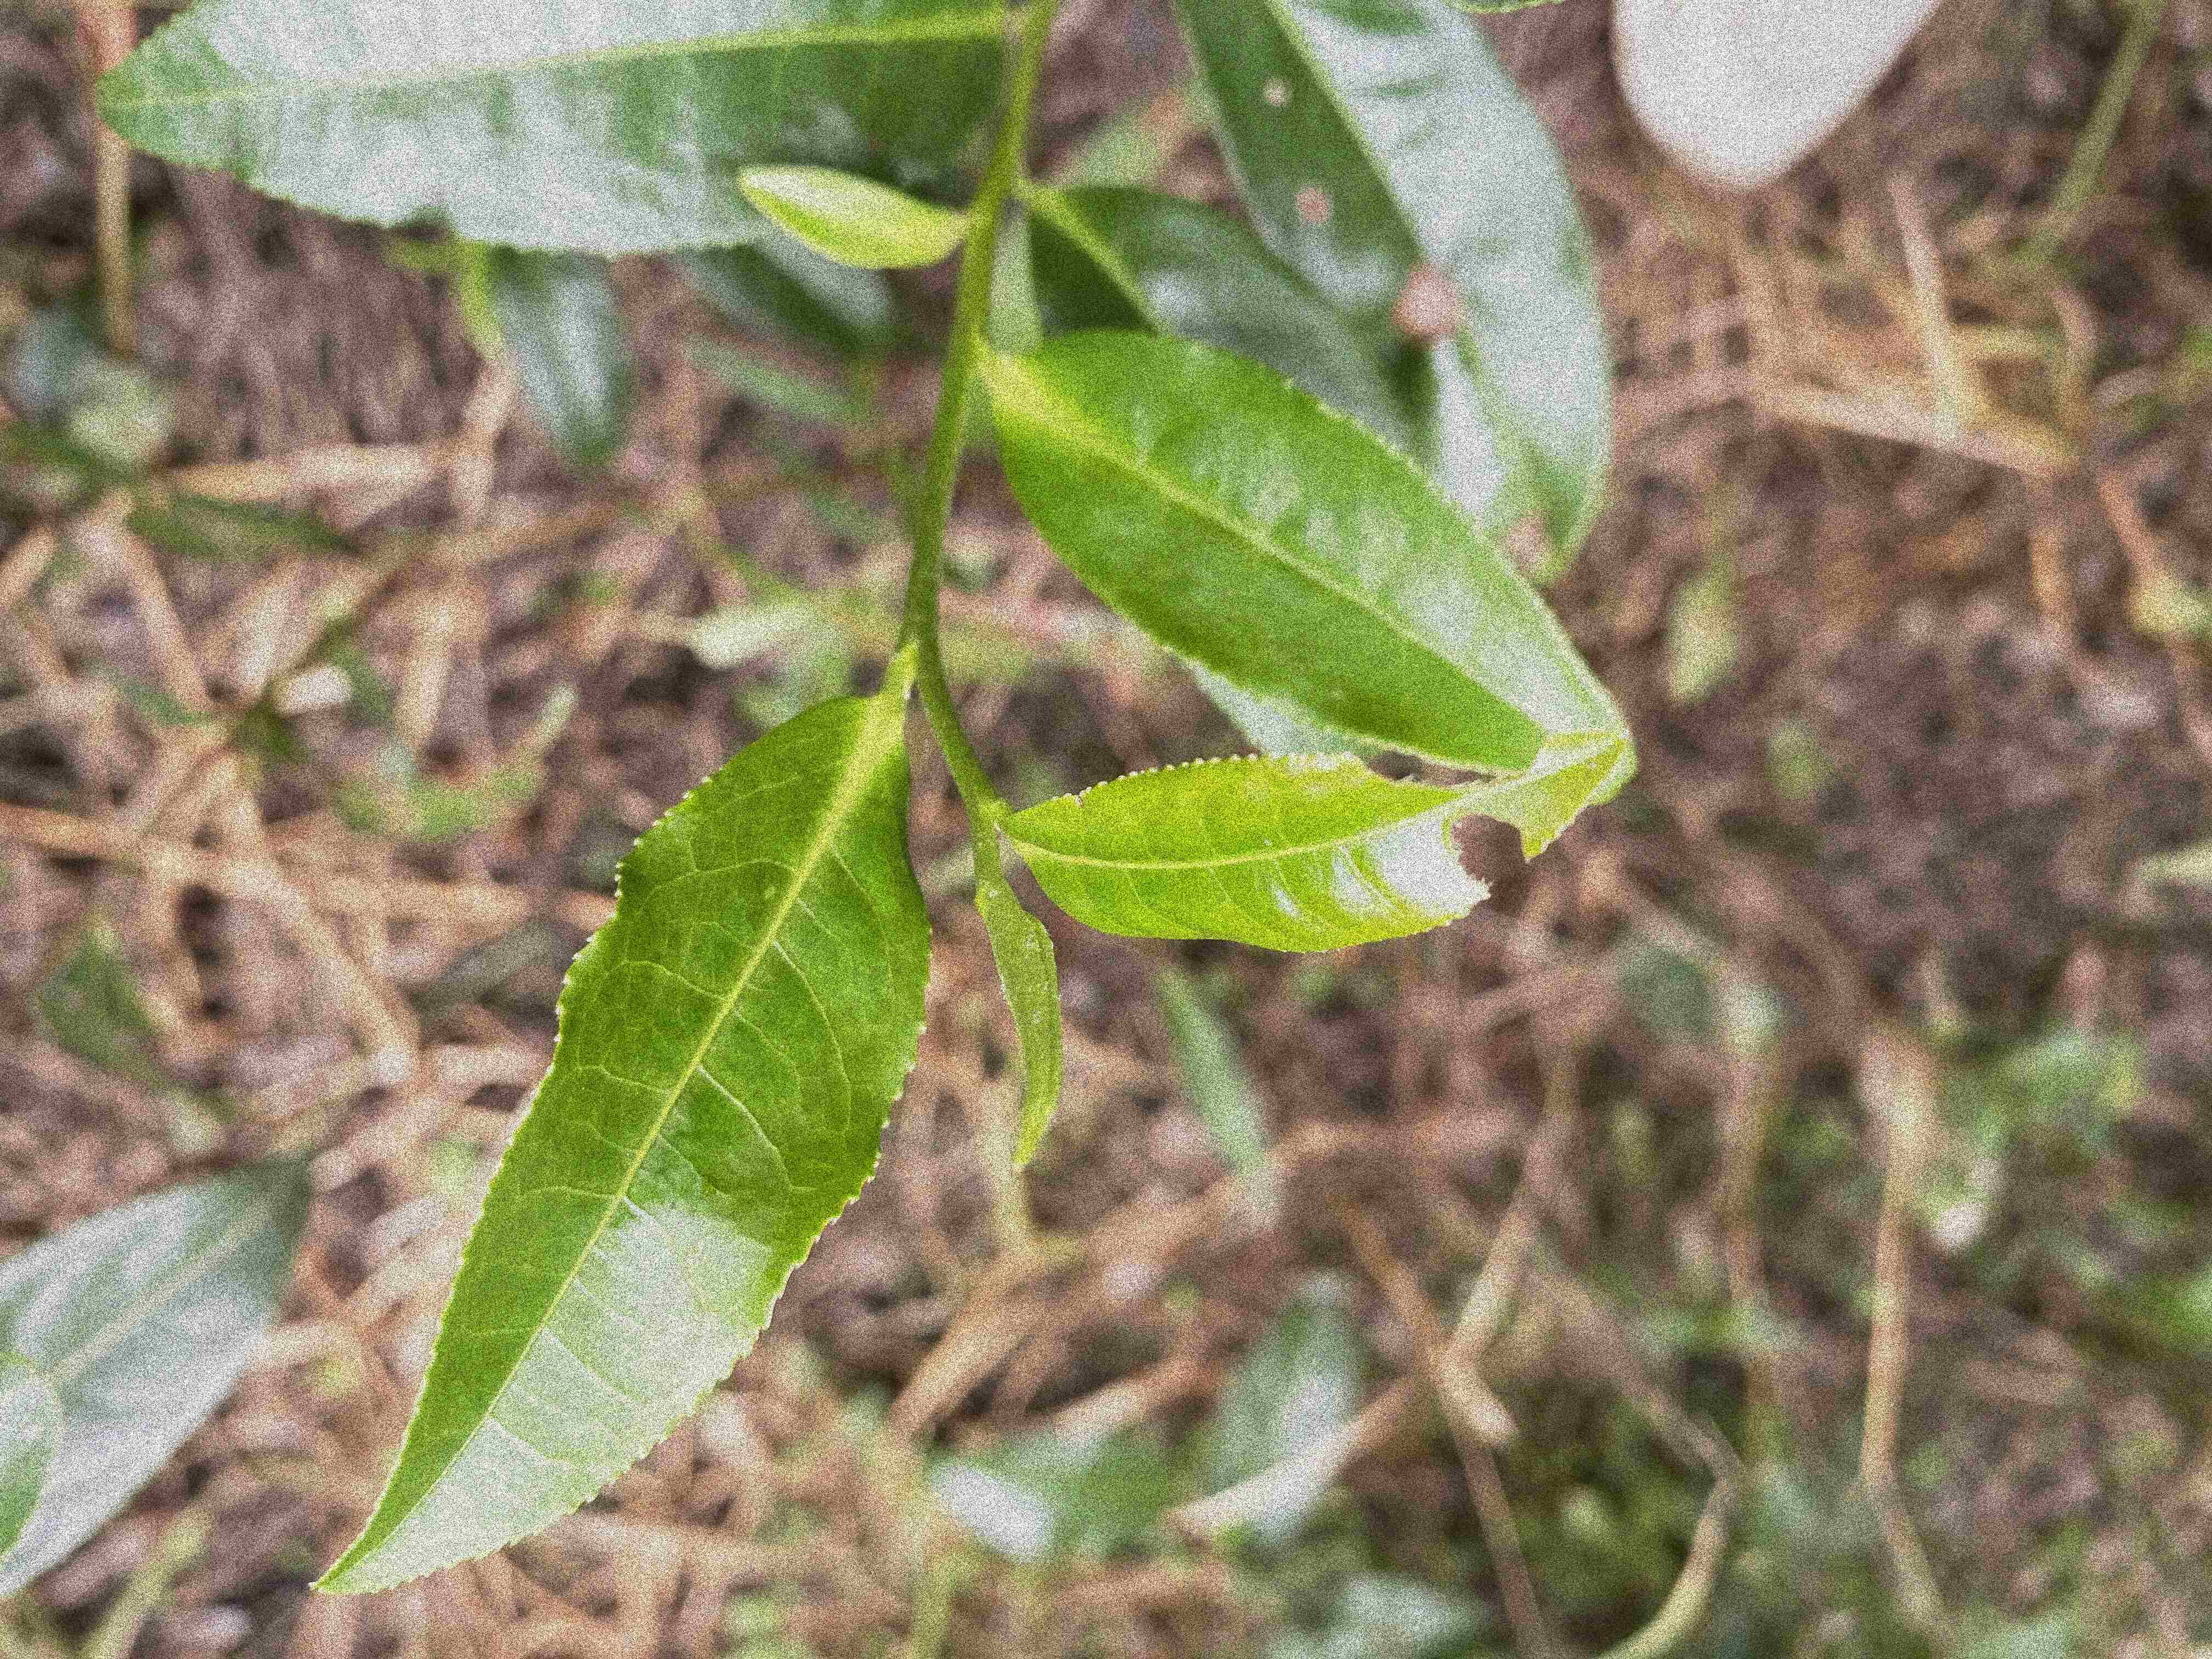chihuo_high: (1000, 732, 1618, 958)
healthy: (307, 697, 932, 1595)
tanju_high: (1167, 0, 1613, 582)
